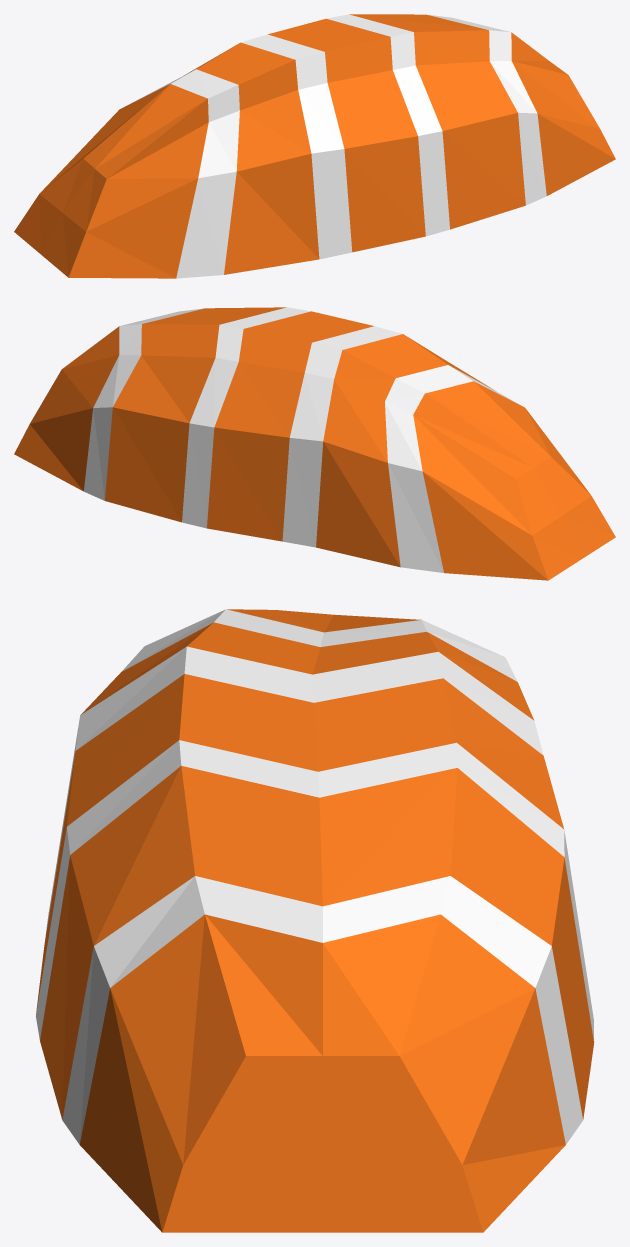
File: Sashimi_Salmon.obj
3 views of the same model, one above another, from view 1: azimuth 30°, elevation 25°; view 2: azimuth 150°, elevation 25°; view 3: azimuth 270°, elevation 25° (orthographic). The views are drawn at different scales.
Parts seen in each view (by area): view 1: Sashimi_Salmon_Orange, Sashimi_Salmon_White; view 2: Sashimi_Salmon_Orange, Sashimi_Salmon_White; view 3: Sashimi_Salmon_Orange, Sashimi_Salmon_White.
Part boxes in pixels (x1,y1,x2,y2): Sashimi_Salmon_Orange: (14, 14, 615, 278); Sashimi_Salmon_White: (125, 14, 546, 278); Sashimi_Salmon_Orange: (14, 307, 615, 580); Sashimi_Salmon_White: (84, 307, 521, 572); Sashimi_Salmon_Orange: (36, 609, 593, 1232); Sashimi_Salmon_White: (36, 609, 594, 1144).
Size of the model in its own units: 0.5976 by 0.1518 by 0.2716.
